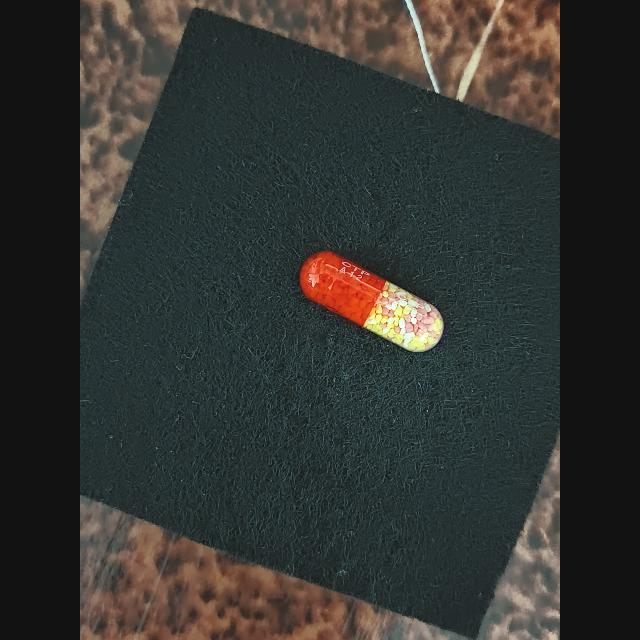Intact Capsule: (300, 251, 444, 352)
